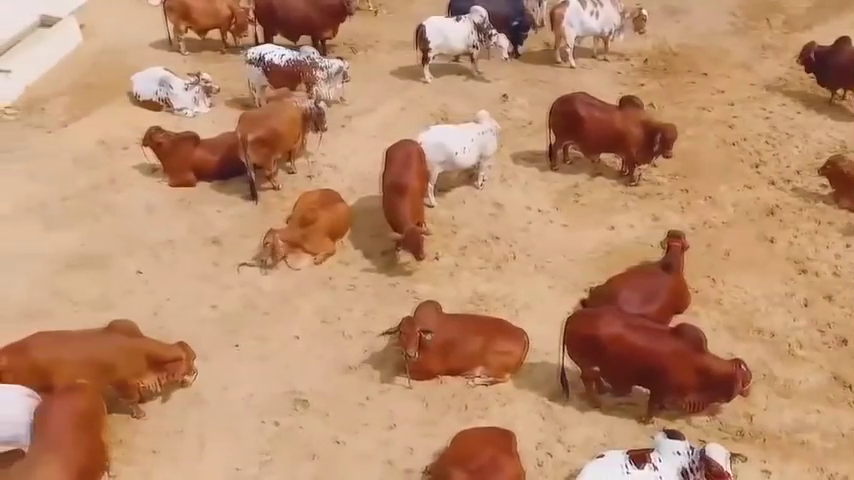bo: (558, 305, 768, 425), (7, 316, 218, 425), (525, 78, 698, 192), (572, 216, 719, 320), (393, 295, 537, 391), (562, 423, 735, 480), (25, 374, 118, 480), (235, 92, 326, 200), (254, 180, 357, 275), (405, 3, 517, 88), (413, 108, 512, 203), (240, 36, 351, 114), (376, 138, 441, 261), (543, 1, 658, 70), (127, 124, 235, 193), (248, 1, 371, 60), (123, 58, 226, 123), (422, 418, 539, 475), (441, 1, 537, 62), (156, 1, 247, 65), (789, 31, 853, 95), (1, 372, 47, 461), (813, 144, 852, 212)
